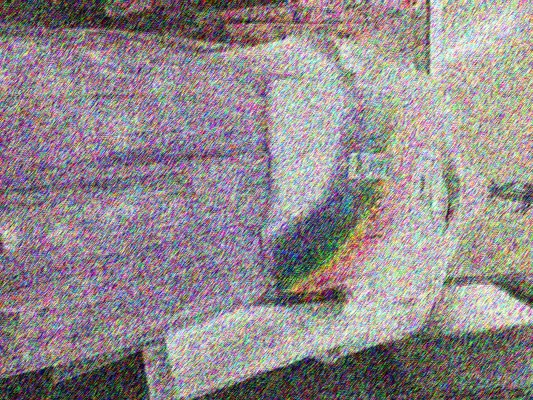Dress: (0, 32, 529, 380)
